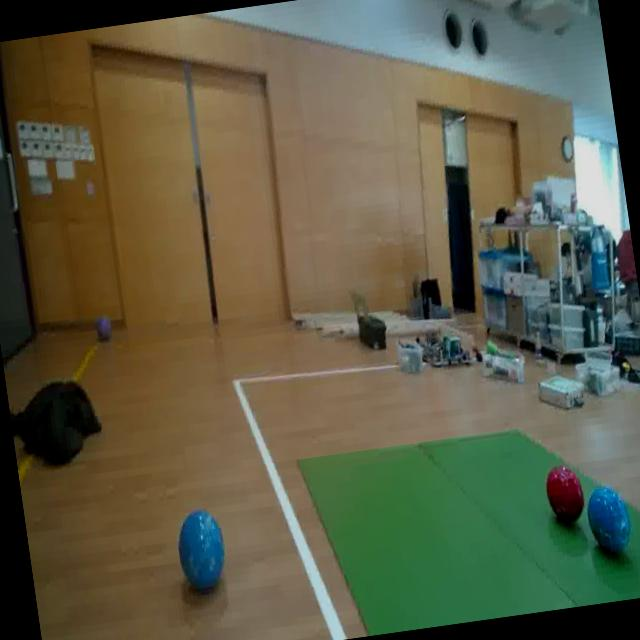blue_ball: (172, 500, 232, 598), (582, 485, 635, 557)
purple_ball: (94, 311, 115, 347)
red_ball: (544, 462, 588, 532)
